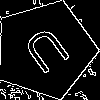U: (20, 25, 79, 83)
